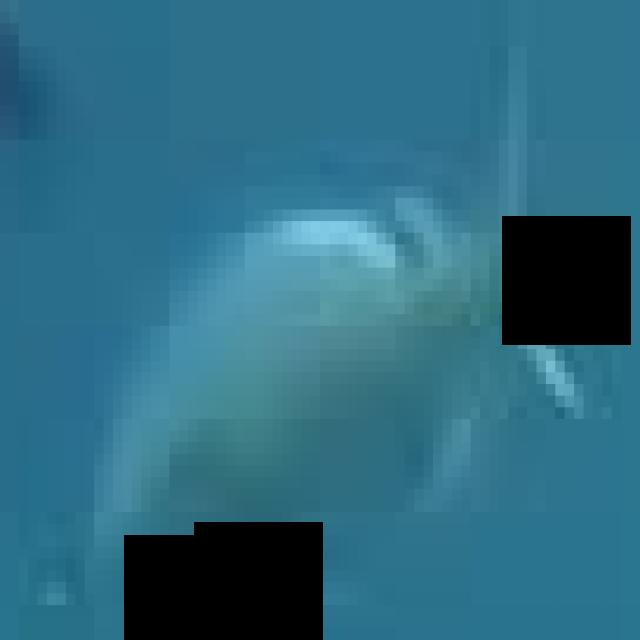fish: (9, 11, 639, 640)
